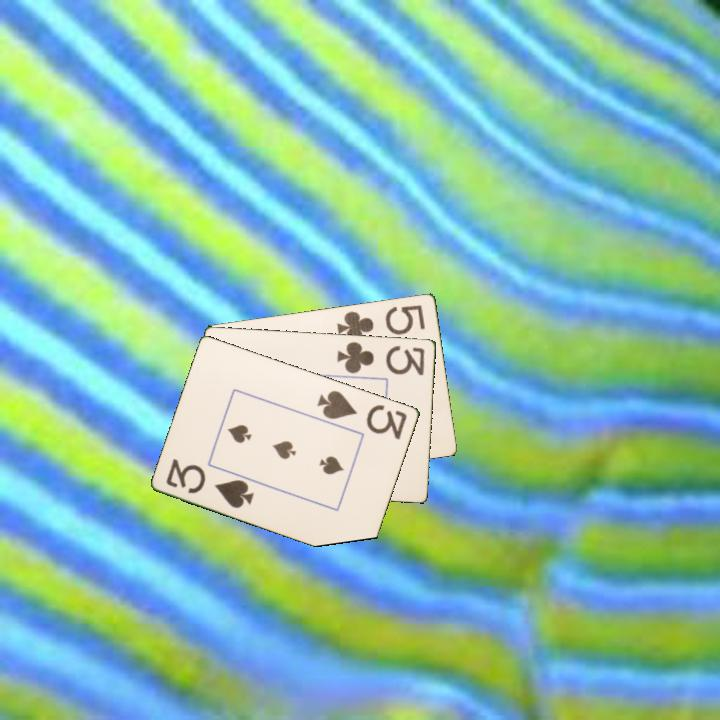3c: (333, 338, 428, 378)
3s: (314, 386, 410, 442), (163, 455, 257, 511)
5c: (333, 301, 428, 346)
